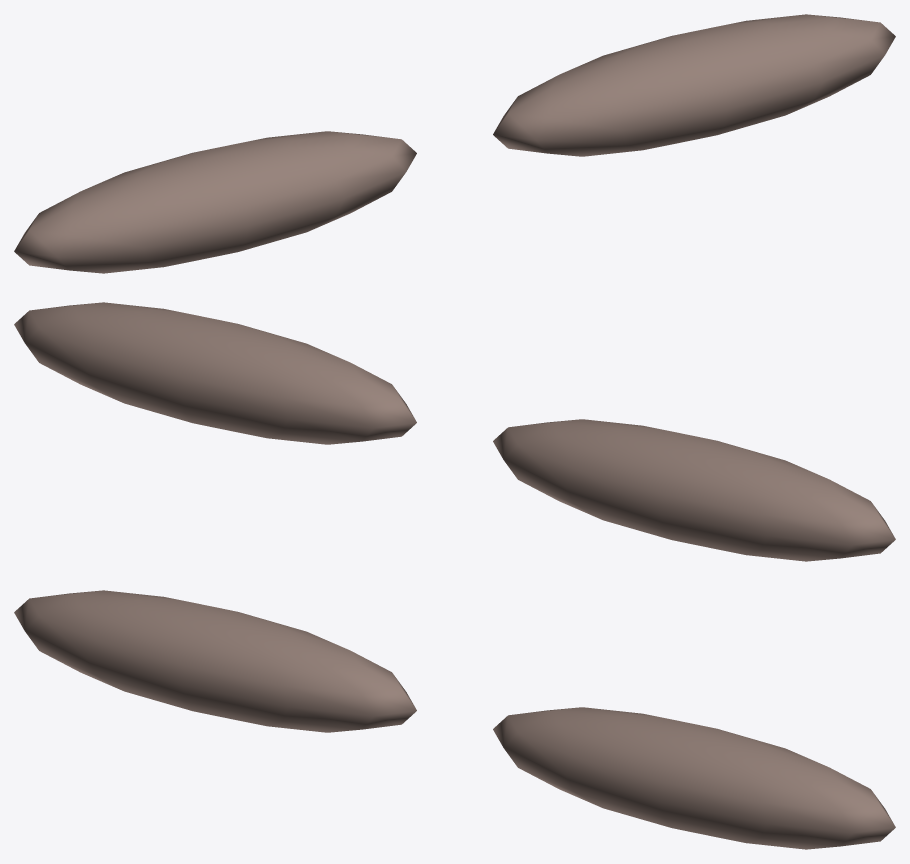
File: eyebrows-chibi-01.glb
3 renders of one model, top to bottom at view 1: azimuth 30°, elevation 25°; view 2: azimuth 150°, elevation 25°; view 3: azimuth 330°, elevation 25°, orthographic.
Parts seen in each view (by area): view 1: part_0, part_1; view 2: part_0, part_1; view 3: part_0, part_1.
Boxes of the visible parts, x1,y1,x2,y2 form: part_0: [14, 131, 416, 273]; part_1: [493, 14, 895, 156]; part_0: [493, 419, 895, 561]; part_1: [14, 302, 416, 444]; part_0: [14, 590, 416, 732]; part_1: [493, 707, 895, 849].
Size of the model in its own units: 0.7 by 0.07 by 0.09.
